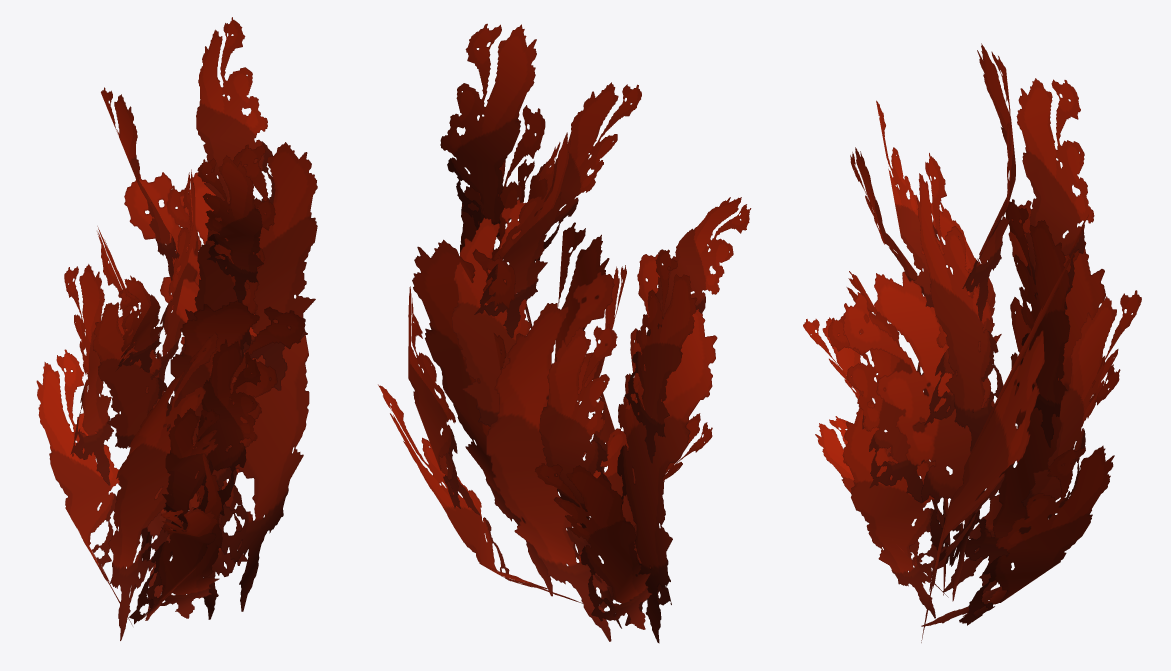
Rendered from Red Algae 1_preview_3DS_simplified.glb.
3 renders of one model, left to right at view 1: azimuth 30°, elevation 25°; view 2: azimuth 150°, elevation 25°; view 3: azimuth 270°, elevation 25°, orthographic. The views are drawn at different scales.
Parts seen in each view (by area): view 1: Marine Park Empire model; view 2: Marine Park Empire model; view 3: Marine Park Empire model.
Part boxes in pixels (x1,y1,x2,y2): Marine Park Empire model: [36, 17, 317, 640]; Marine Park Empire model: [378, 23, 751, 643]; Marine Park Empire model: [803, 43, 1141, 642].
Size of the model in its own units: 35.68 by 74.36 by 38.99.
Materials: 1 (1 with a texture image).
